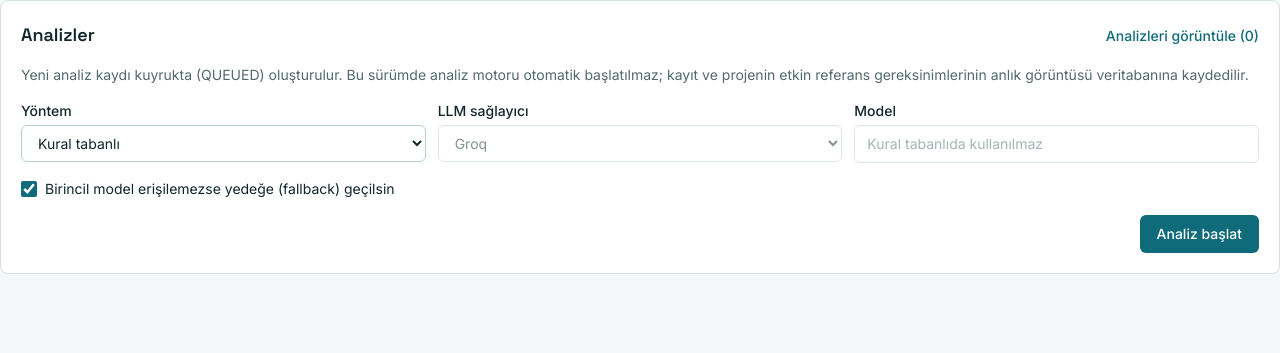
it: sunucu reddi (ör. aktif analiz var) kullanıcıya gösterilir, yönlendirme yapılmaz
The image size is (1280, 353).
Click the button "Analiz başlat" at (1199, 234), box 1140,215 -> 1259,253
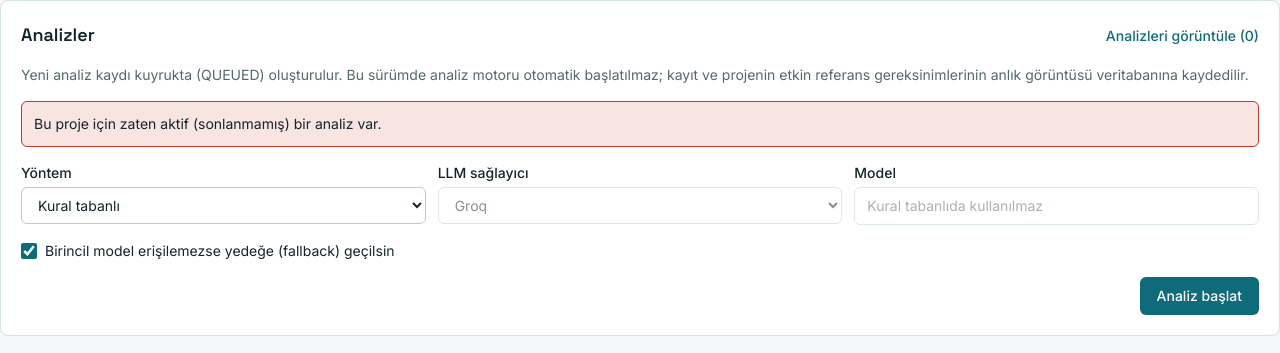
Check: the message shows "zaten aktif", box 34,115 -> 382,132
